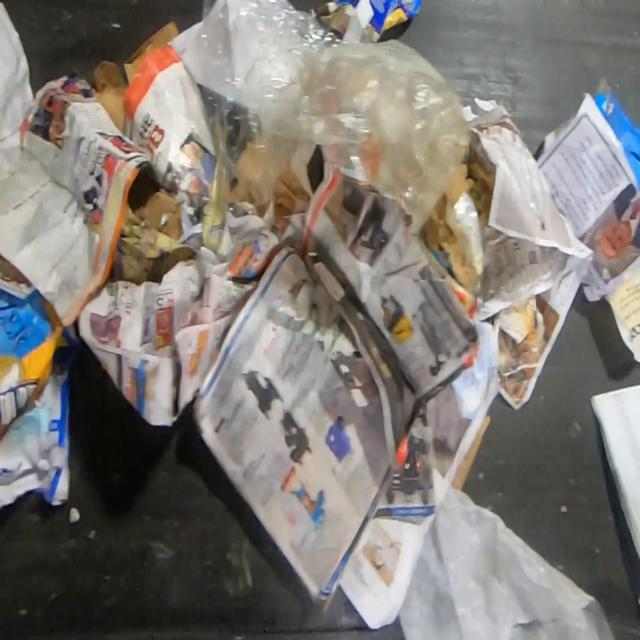cardboard: (0, 287, 82, 439), (89, 17, 179, 134), (103, 185, 194, 285), (592, 77, 640, 188), (316, 0, 422, 39), (451, 412, 491, 491)
soft_plastic: (185, 0, 471, 234), (398, 484, 617, 640), (448, 189, 484, 288)
